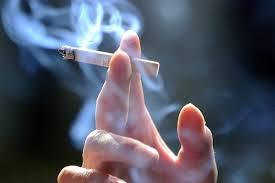smoke: (58, 44, 160, 77)
